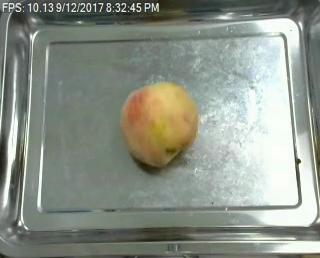Peach: (121, 81, 199, 167)
